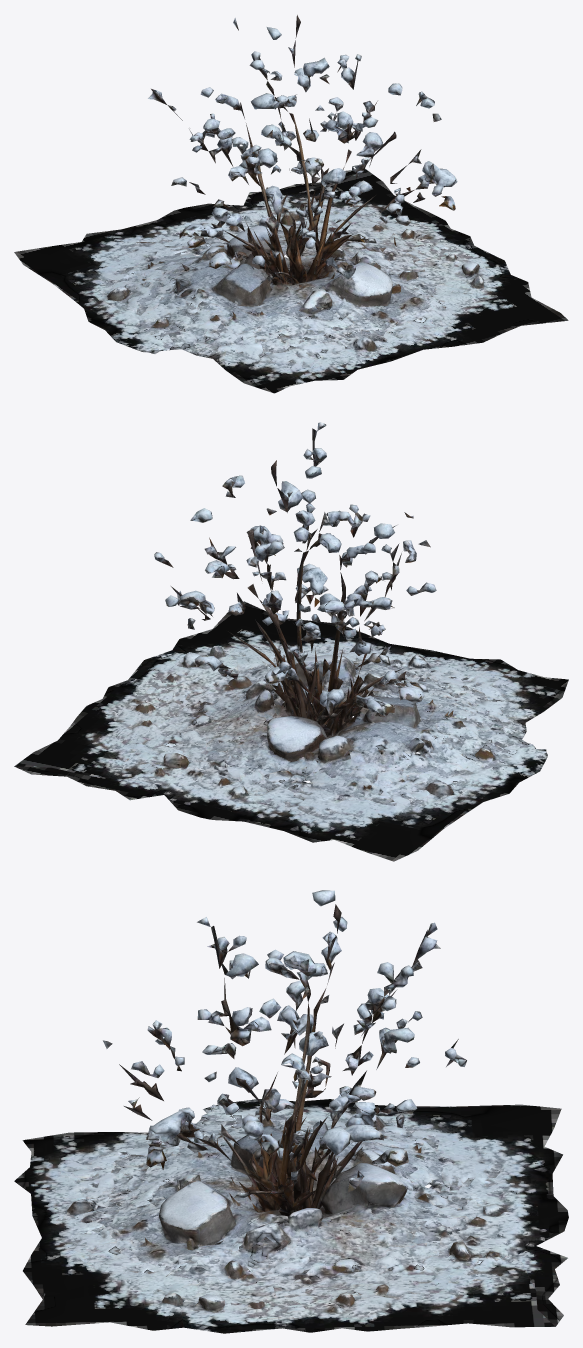
File: snow-bush-4.glb
The picture shows the model from 3 angles, top to bottom: view 1: azimuth 30°, elevation 25°; view 2: azimuth 150°, elevation 25°; view 3: azimuth 270°, elevation 25°; orthographic projection. The views are drawn at different scales.
Visible parts, largest first — view 1: geometry_0; view 2: geometry_0; view 3: geometry_0.
Part boxes in pixels (x1,y1,x2,y2): geometry_0: (14, 15, 568, 393); geometry_0: (14, 422, 568, 861); geometry_0: (14, 890, 568, 1333).
Bounding box in the file's own units: 0.9638 × 0.6427 × 0.9628.
Materials: 1 (1 with a texture image).
